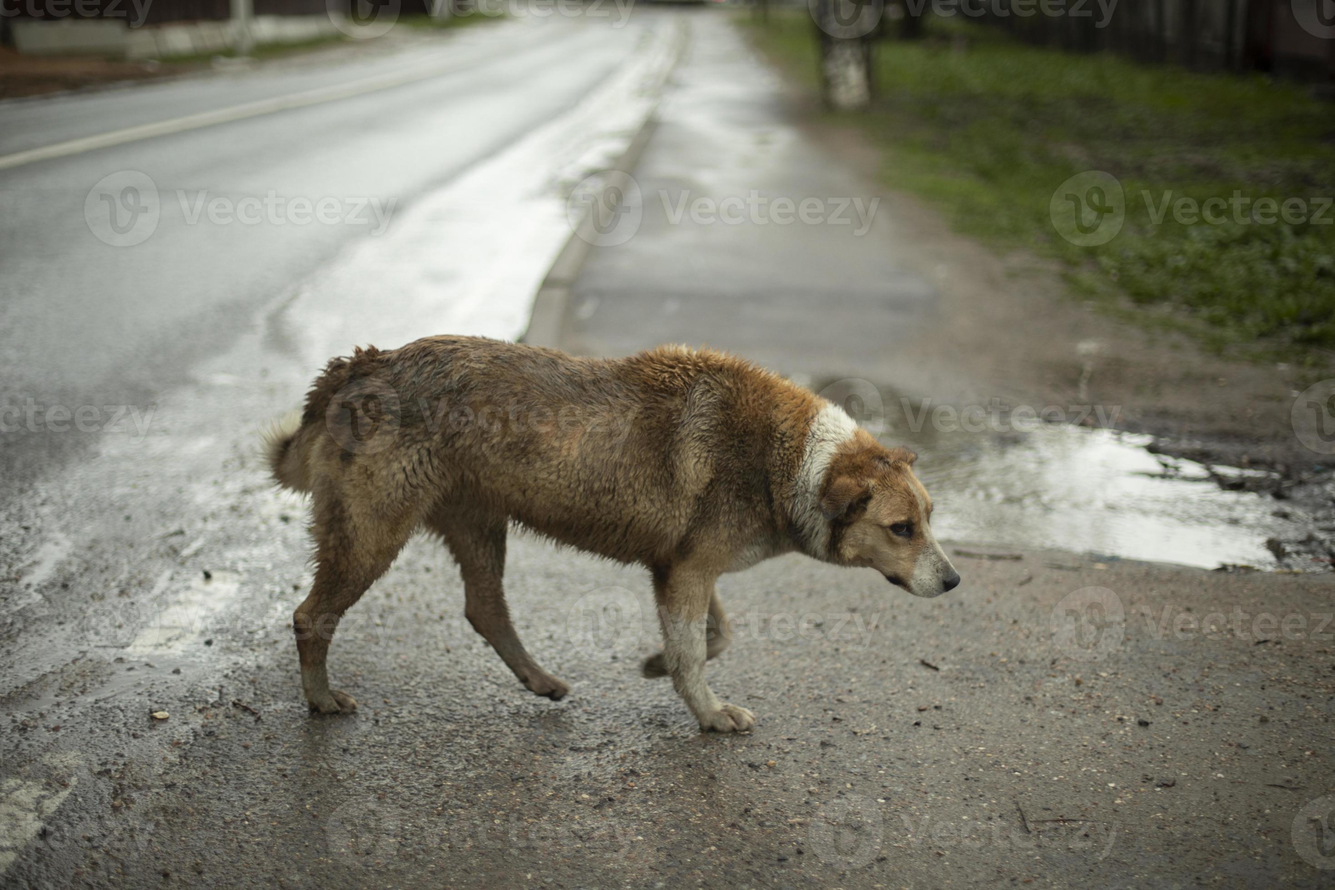Dog: (197, 308, 985, 776)
